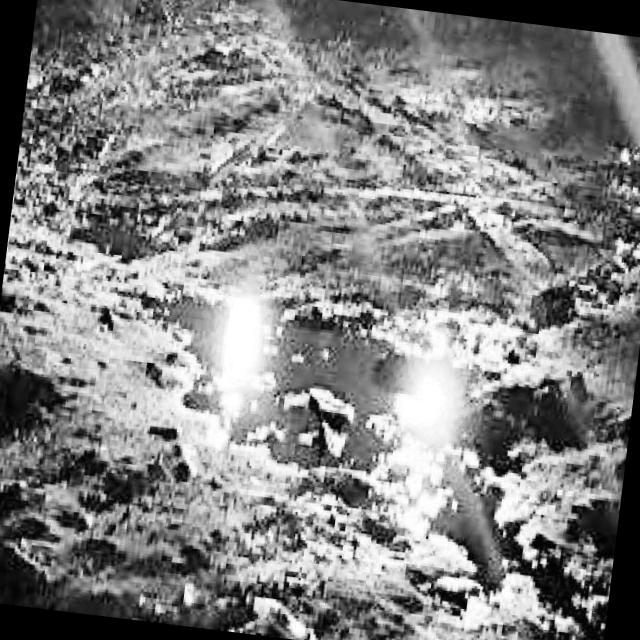Pothole: (53, 243, 640, 640)
